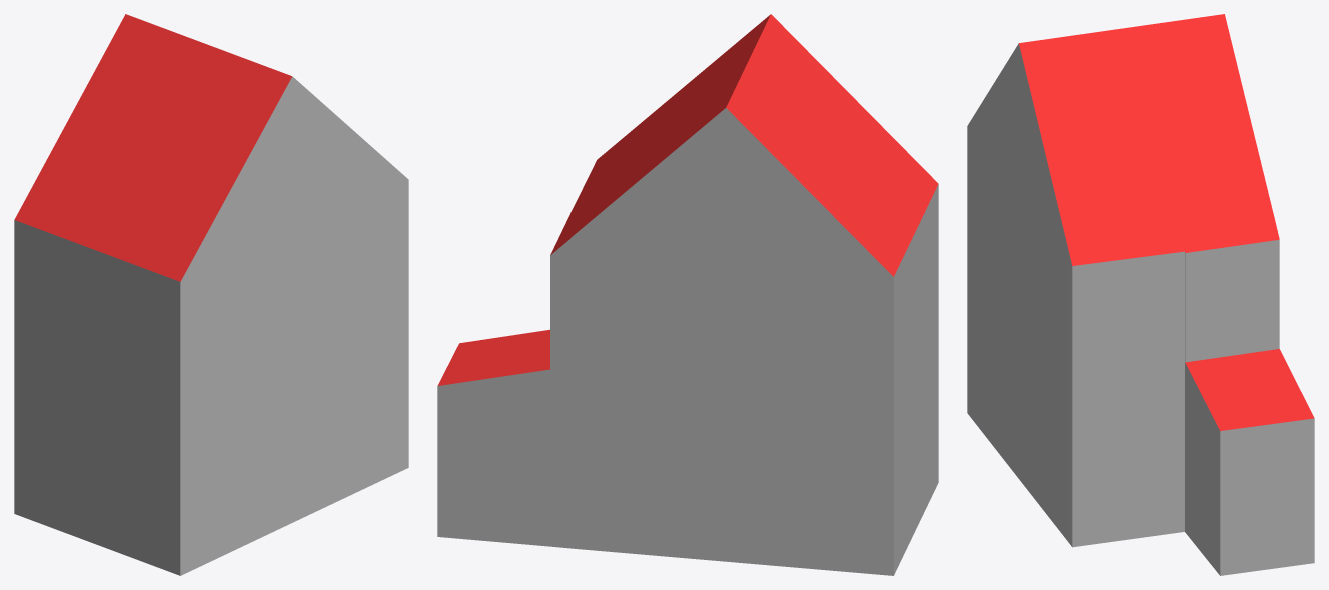
Rendered from DEBY_LOD2_4782143.dae.
The picture shows the model from 3 angles, left to right: view 1: azimuth 30°, elevation 25°; view 2: azimuth 150°, elevation 25°; view 3: azimuth 270°, elevation 25°; orthographic projection. The views are drawn at different scales.
Bounding box in the file's own units: 14.83 × 11.34 × 15.7.
